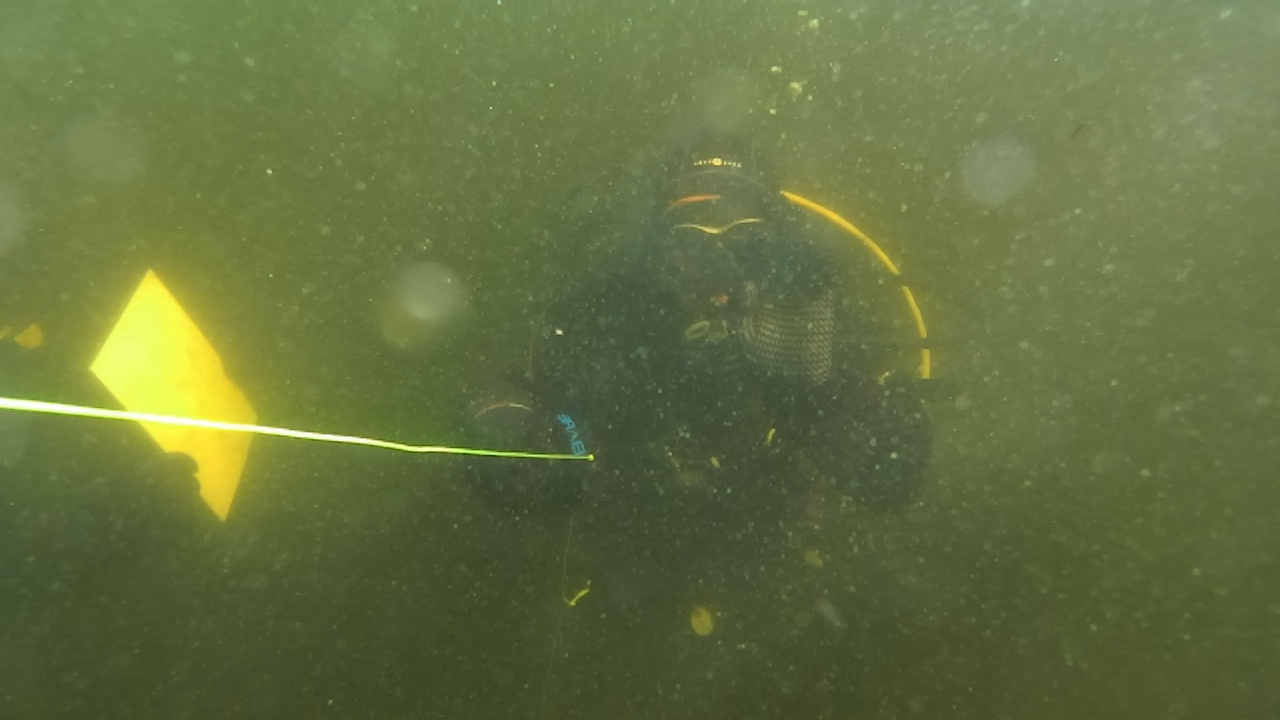Diver: (410, 56, 1000, 712)
Head: (600, 98, 818, 300)
